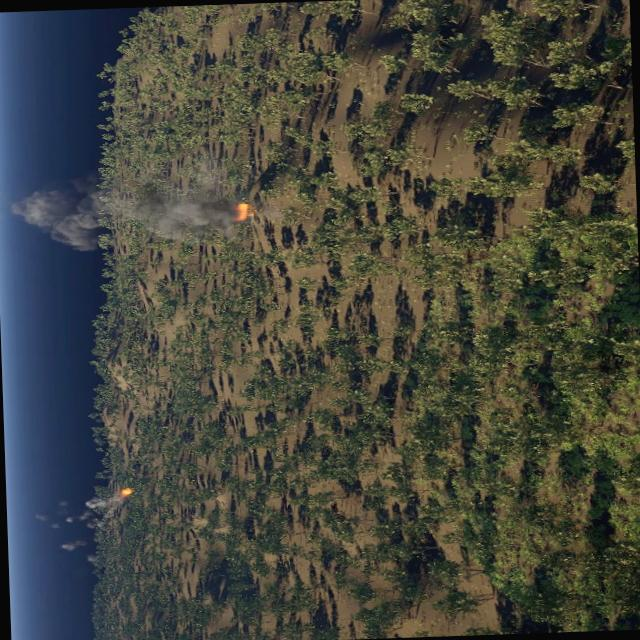fire: (235, 201, 250, 219), (120, 487, 132, 495)
smoke: (96, 150, 238, 242), (5, 172, 100, 252), (74, 492, 125, 523), (257, 197, 297, 218), (59, 538, 89, 552)
